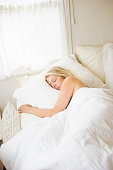deitado: (7, 56, 99, 162)
